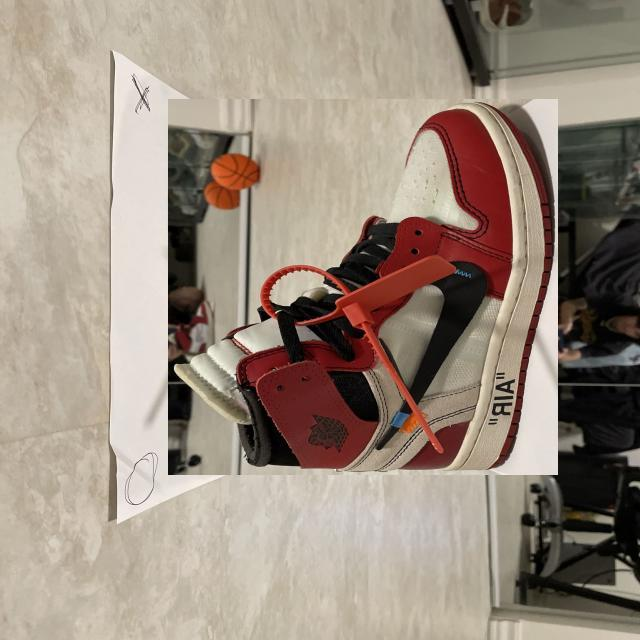shoes: (168, 100, 558, 476)
